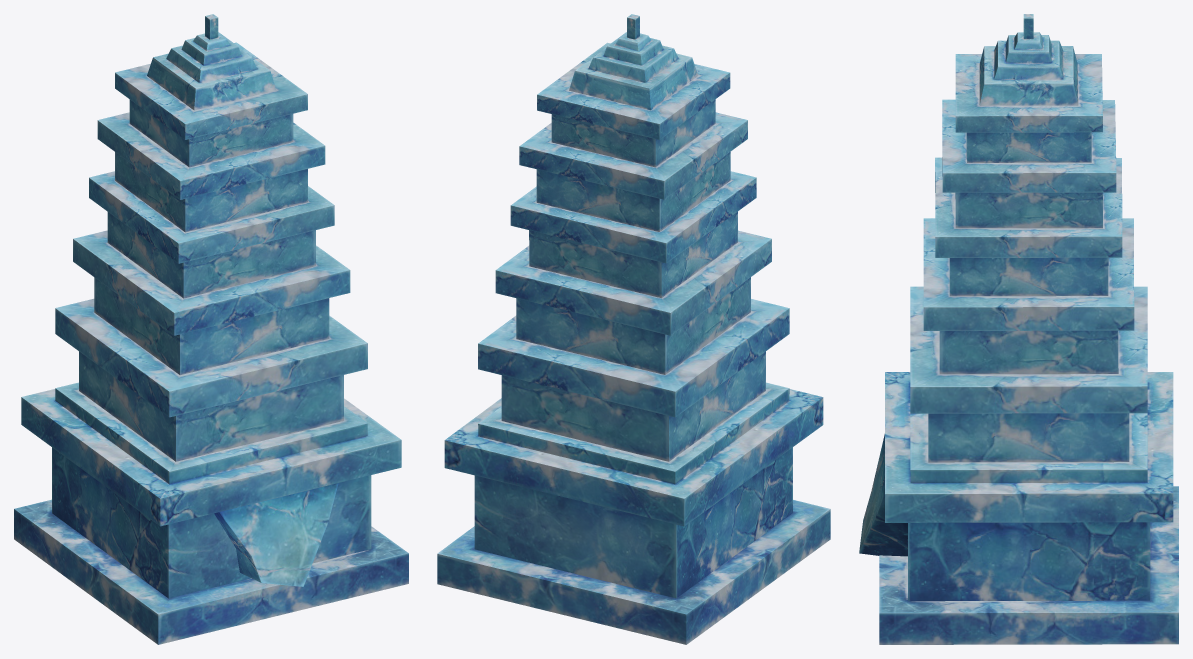
Rendered from Stage_BingYuan_BingDiao02.FBX.
3 views of the same model, side by side, from view 1: azimuth 30°, elevation 25°; view 2: azimuth 150°, elevation 25°; view 3: azimuth 270°, elevation 25° (orthographic). The views are drawn at different scales.
Visible parts, largest first — view 1: Stage_BingYuan_BingDiao02z; view 2: Stage_BingYuan_BingDiao02z; view 3: Stage_BingYuan_BingDiao02z.
Part boxes in pixels (x1=…): Stage_BingYuan_BingDiao02z: x1=14, y1=14, x2=408, y2=644; Stage_BingYuan_BingDiao02z: x1=437, y1=14, x2=830, y2=644; Stage_BingYuan_BingDiao02z: x1=859, y1=14, x2=1178, y2=644.
Bounding box in the file's own units: 380 × 790 × 405.
